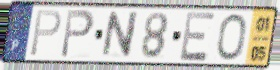8: (139, 12, 171, 60)
E: (178, 10, 218, 63)
N: (99, 11, 141, 60)
O: (215, 13, 247, 63)
P: (59, 8, 96, 60), (28, 9, 63, 59)
